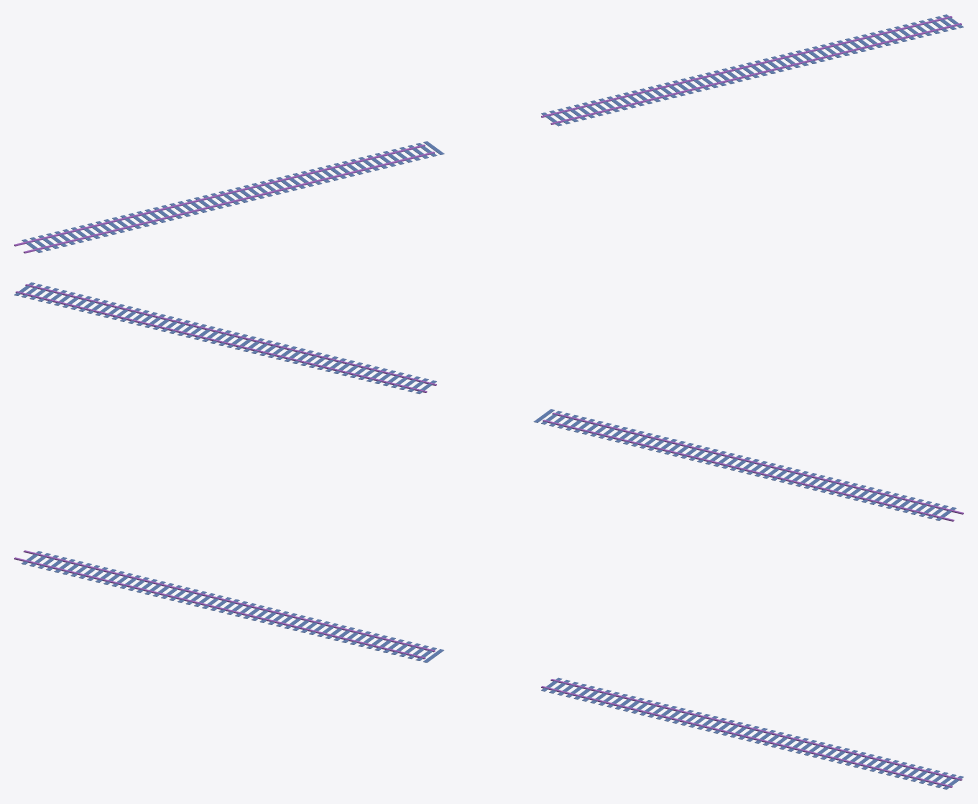
Rendered from Rail Tracks.glb.
The picture shows the model from 3 angles, top to bottom: view 1: azimuth 30°, elevation 25°; view 2: azimuth 150°, elevation 25°; view 3: azimuth 330°, elevation 25°; orthographic projection.
Visible parts, largest first — view 1: Rail Tracks 1 (×2), Rail Tracks R 1 (×2); view 2: Rail Tracks 1 (×2), Rail Tracks R 1 (×2); view 3: Rail Tracks 1 (×2), Rail Tracks R 1 (×2).
Part boxes in pixels (x1=…): Rail Tracks 1 (×2): x1=21, y1=14, x2=963, y2=252; Rail Tracks R 1 (×2): x1=14, y1=16, x2=961, y2=253; Rail Tracks 1 (×2): x1=14, y1=282, x2=956, y2=520; Rail Tracks R 1 (×2): x1=15, y1=284, x2=963, y2=521; Rail Tracks 1 (×2): x1=21, y1=551, x2=963, y2=789; Rail Tracks R 1 (×2): x1=14, y1=550, x2=962, y2=787.
Bounding box in the file's own units: 14.49 × 0.0163 × 0.4628.
